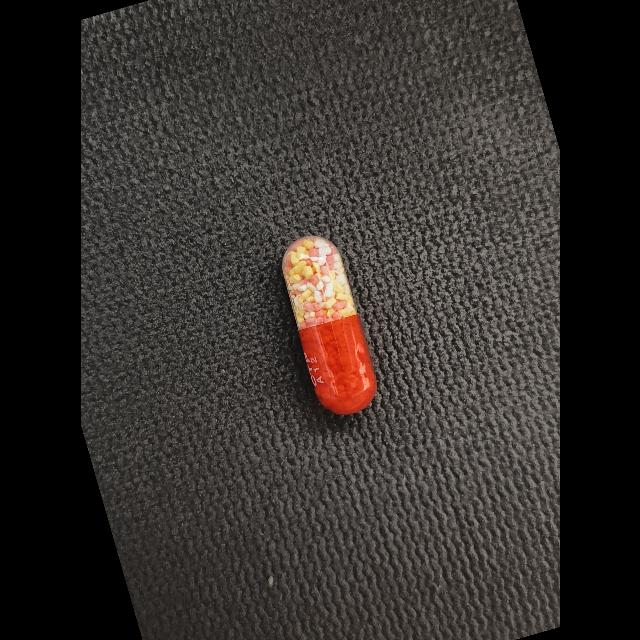Intact Capsule: (282, 236, 376, 414)
